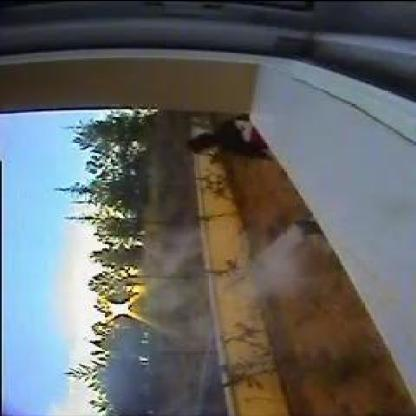-: (238, 226, 304, 294)
